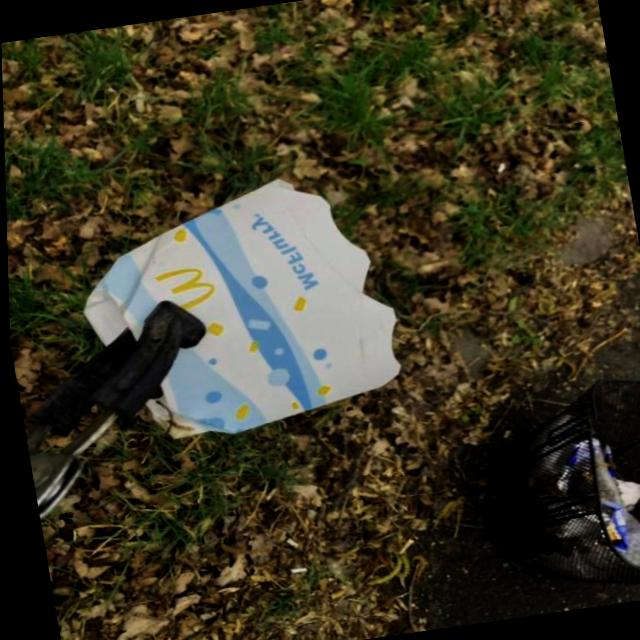Paper: (61, 162, 412, 453)
